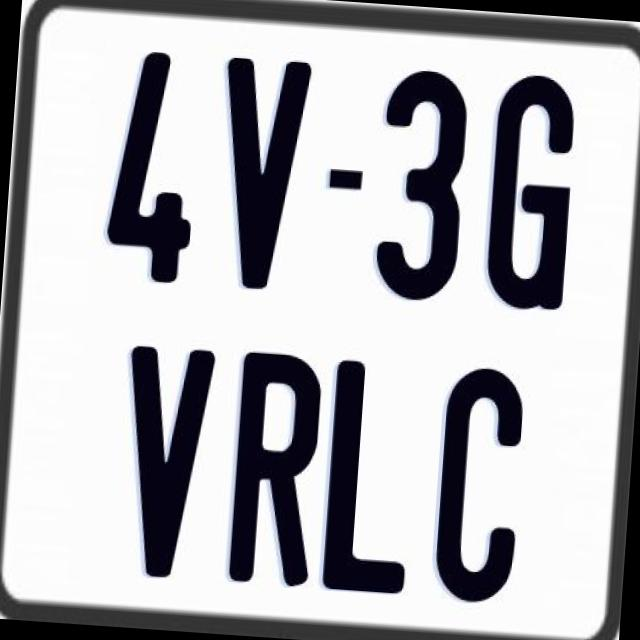3: (371, 66, 474, 306)
4: (102, 46, 206, 286)
C: (432, 361, 530, 608)
G: (483, 73, 582, 318)
L: (318, 354, 418, 594)
R: (226, 351, 322, 590)
V: (210, 52, 317, 296), (112, 342, 215, 586)
